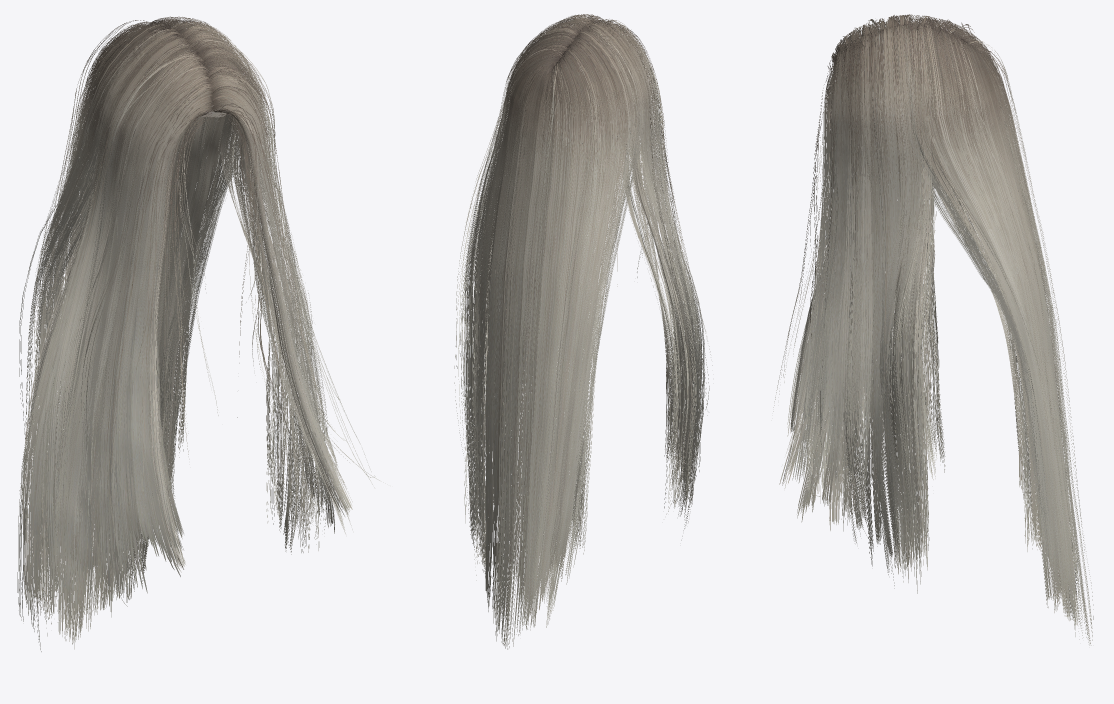
The model's file is hair_03.glb.
3 renders of one model, left to right at view 1: azimuth 30°, elevation 25°; view 2: azimuth 150°, elevation 25°; view 3: azimuth 270°, elevation 25°, orthographic. The views are drawn at different scales.
Visible parts, largest first — view 1: a4_1_a4_1, a3_1_a3_1, a2_1_a2_1, a5_2_a5_2, a1_4_a1_4, a2_2_a2_2, a4_3_a4_3, a3_2_a3_2, a4_2_a4_2, a1_2_a1_2, a3_3_a3_3, a5_3_a5_3 (+8 smaller); view 2: a4_3_a4_3, a4_4_a4_4, a3_3_a3_3, a3_4_a3_4, a2_3_a2_3, a3_1_a3_1, a5_4_a5_4, a2_4_a2_4, a4_1_a4_1, a2_1_a2_1, a1_1_a1_1, a5_2_a5_2 (+4 smaller); view 3: a4_2_a4_2, a3_2_a3_2, a4_4_a4_4, a3_4_a3_4, a2_2_a2_2, a5_3_a5_3, a2_4_a2_4, a1_2_a1_2, a5_4_a5_4, a3_1_a3_1, a1_4_a1_4, a4_3_a4_3 (+5 smaller).
Boxes of the visible parts, x1,y1,x2,y2 form: a4_1_a4_1: (17,34,213,651); a3_1_a3_1: (20,28,212,621); a2_1_a2_1: (23,39,211,618); a5_2_a5_2: (20,38,215,606); a1_4_a1_4: (98,112,230,553); a2_2_a2_2: (180,34,352,554); a4_3_a4_3: (25,22,181,640); a3_2_a3_2: (173,25,343,534); a4_2_a4_2: (173,21,338,552); a1_2_a1_2: (190,40,327,521); a3_3_a3_3: (28,26,178,641); a5_3_a5_3: (188,38,387,499); a4_3_a4_3: (506,23,644,647); a4_4_a4_4: (461,18,582,648); a3_3_a3_3: (506,26,642,649); a3_4_a3_4: (463,22,581,646); a2_3_a2_3: (513,35,631,621); a3_1_a3_1: (575,23,701,516); a5_4_a5_4: (454,21,637,633); a2_4_a2_4: (473,35,580,608); a4_1_a4_1: (591,19,704,540); a2_1_a2_1: (588,28,701,511); a1_1_a1_1: (599,31,686,473); a5_2_a5_2: (589,19,712,514); a4_2_a4_2: (797,24,931,593); a3_2_a3_2: (792,28,936,562); a4_4_a4_4: (900,22,1092,645); a3_4_a3_4: (902,28,1090,645); a2_2_a2_2: (779,34,926,571); a5_3_a5_3: (773,29,897,540); a2_4_a2_4: (910,34,1074,616); a1_2_a1_2: (800,39,935,534); a5_4_a5_4: (902,14,1093,619); a3_1_a3_1: (789,20,945,477); a1_4_a1_4: (912,42,1059,566); a4_3_a4_3: (899,14,1082,619).
Size of the model in its own units: 0.4569 by 0.926 by 0.4398.
Materials: 21 (21 with a texture image).
